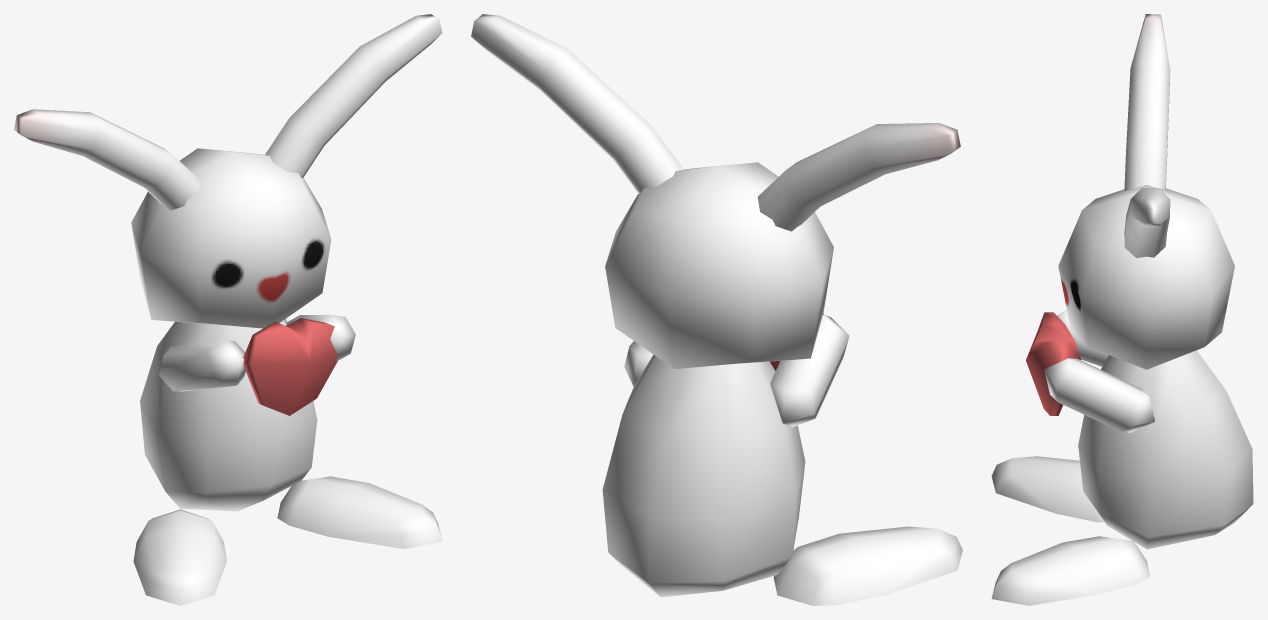
The model's file is Bunny.fbx.
3 renders of one model, left to right at view 1: azimuth 30°, elevation 25°; view 2: azimuth 150°, elevation 25°; view 3: azimuth 270°, elevation 25°, orthographic. The views are drawn at different scales.
Parts seen in each view (by area): view 1: Bunny; view 2: Bunny; view 3: Bunny.
Part boxes in pixels (x1,y1,x2,y2): Bunny: (14,14,442,605); Bunny: (471,14,962,605); Bunny: (991,14,1253,605).
Size of the model in its own units: 219 by 222 by 123.
